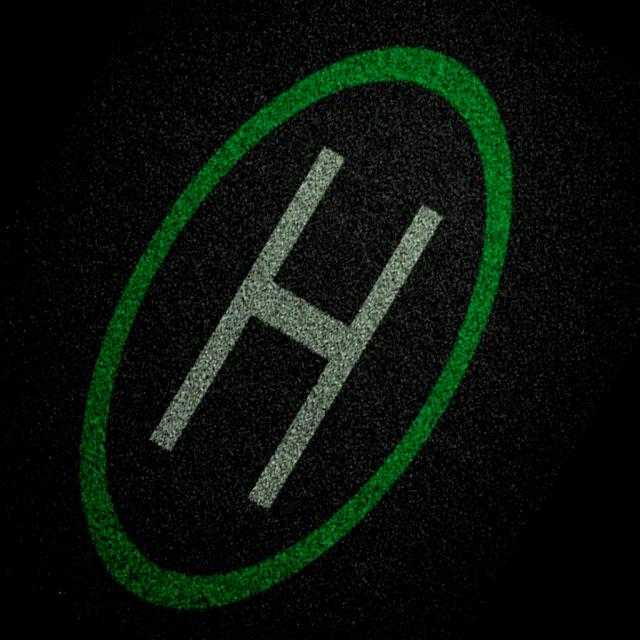helipad: (73, 40, 518, 610)
